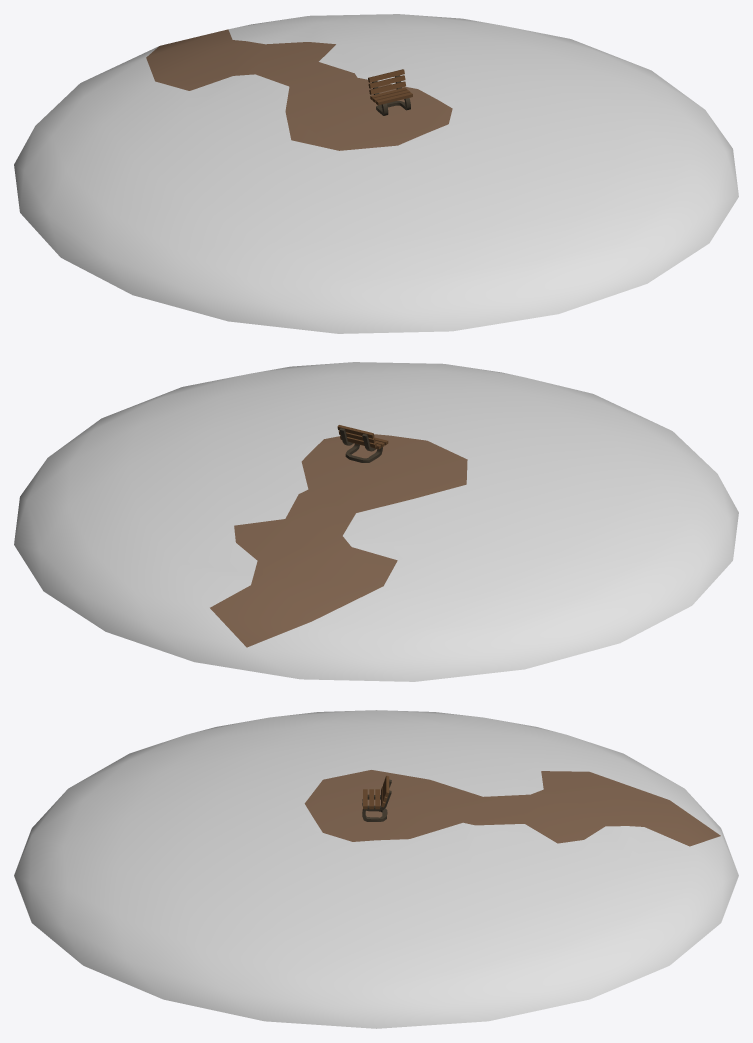
Rendered from lilyhill.fbx.
The picture shows the model from 3 angles, top to bottom: view 1: azimuth 30°, elevation 25°; view 2: azimuth 150°, elevation 25°; view 3: azimuth 270°, elevation 25°; orthographic projection.
Parts seen in each view (by area): view 1: ground, bench base.002; view 2: ground, bench base.002; view 3: ground, bench base.002.
Part boxes in pixels (left/top/right/bottom): ground: left=14, top=14, right=738, bottom=333; bench base.002: left=368, top=69, right=412, bottom=115; ground: left=14, top=362, right=738, bottom=681; bench base.002: left=337, top=425, right=388, bottom=462; ground: left=14, top=710, right=738, bottom=1028; bench base.002: left=362, top=775, right=391, bottom=821.
Size of the model in its own units: 2918 by 440 by 2918.
